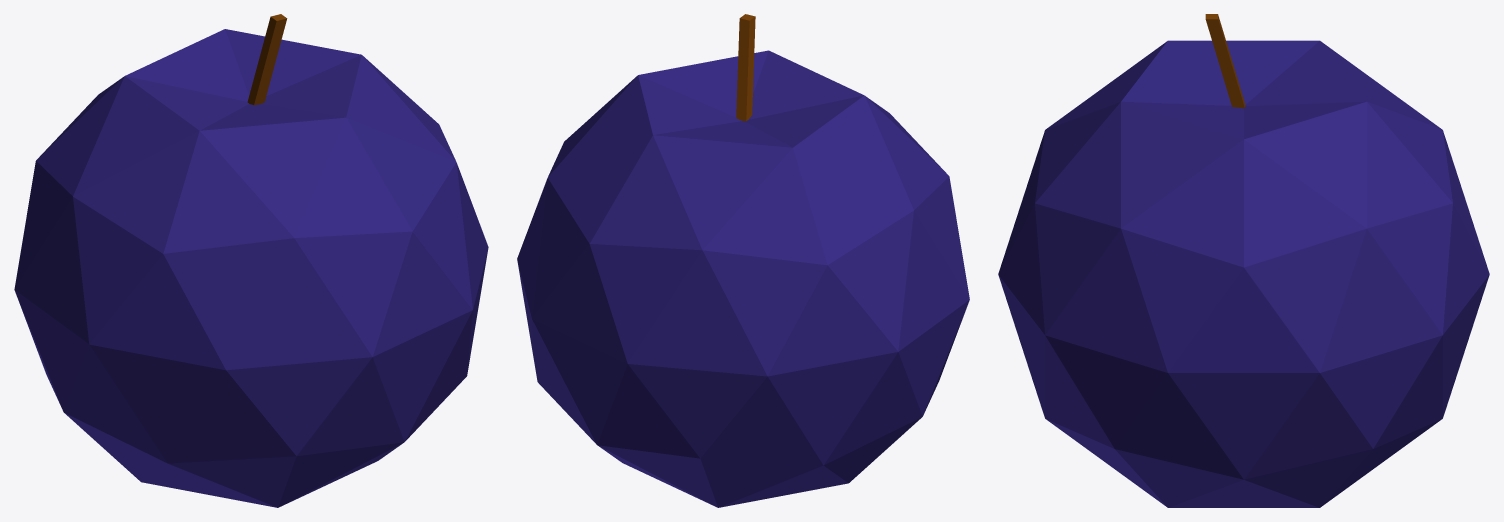
The model's file is fruitBlue.fbx.
3 views of the same model, side by side, from view 1: azimuth 30°, elevation 25°; view 2: azimuth 150°, elevation 25°; view 3: azimuth 270°, elevation 25° (orthographic). The views are drawn at different scales.
Visible parts, largest first — view 1: Icosphere; view 2: Icosphere; view 3: Icosphere.
Part boxes in pixels (<box>): Icosphere: <box>14,14,488,507</box>; Icosphere: <box>517,14,969,507</box>; Icosphere: <box>998,14,1489,507</box>.
Bounding box in the file's own units: 14.27 × 16.37 × 15.
